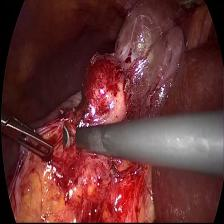Grasper: (2, 102, 55, 169)
Hook: (64, 126, 76, 153)
